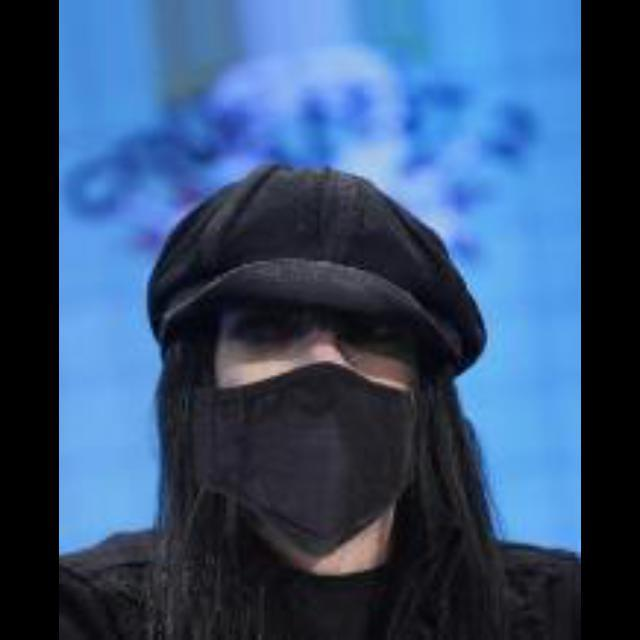suspicion: (148, 149, 492, 557)
